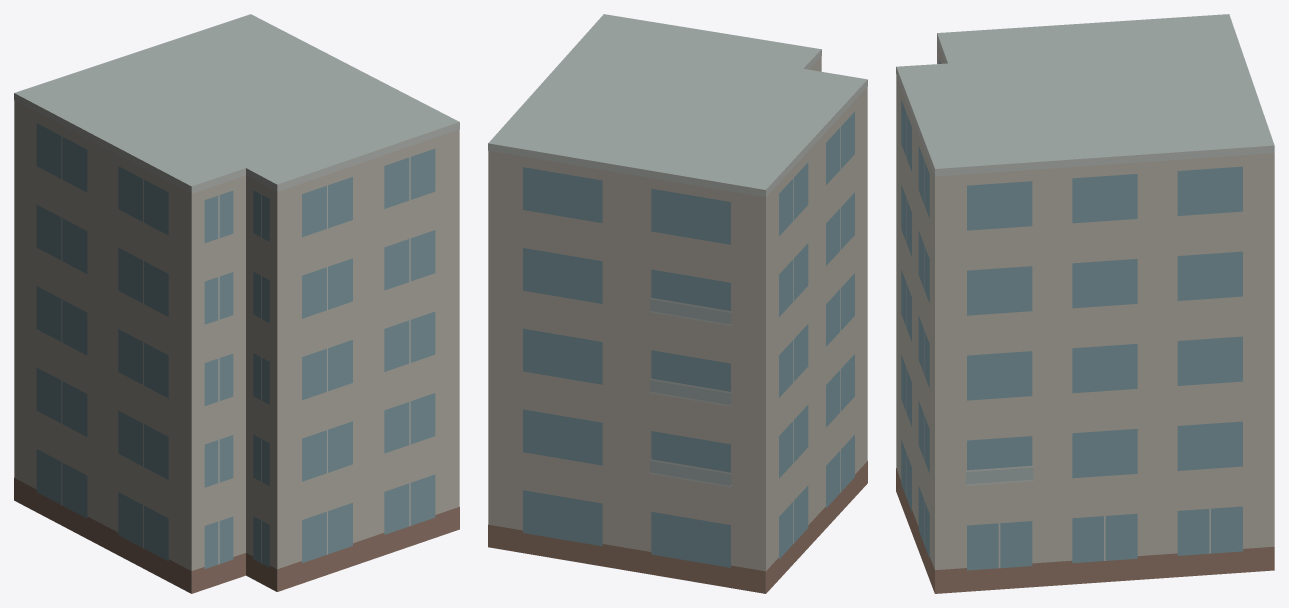
File: survey-upis-32716132.glb
3 renders of one model, left to right at view 1: azimuth 30°, elevation 25°; view 2: azimuth 150°, elevation 25°; view 3: azimuth 270°, elevation 25°, orthographic. The views are drawn at different scales.
Visible parts, largest first — view 1: survey-upis-32716132.tmp; view 2: survey-upis-32716132.tmp; view 3: survey-upis-32716132.tmp.
Part boxes in pixels (x1,y1,x2,y2): survey-upis-32716132.tmp: [14, 14, 459, 593]; survey-upis-32716132.tmp: [488, 14, 867, 593]; survey-upis-32716132.tmp: [896, 14, 1274, 593].
Size of the model in its own units: 10.73 by 13.7 by 11.07.
